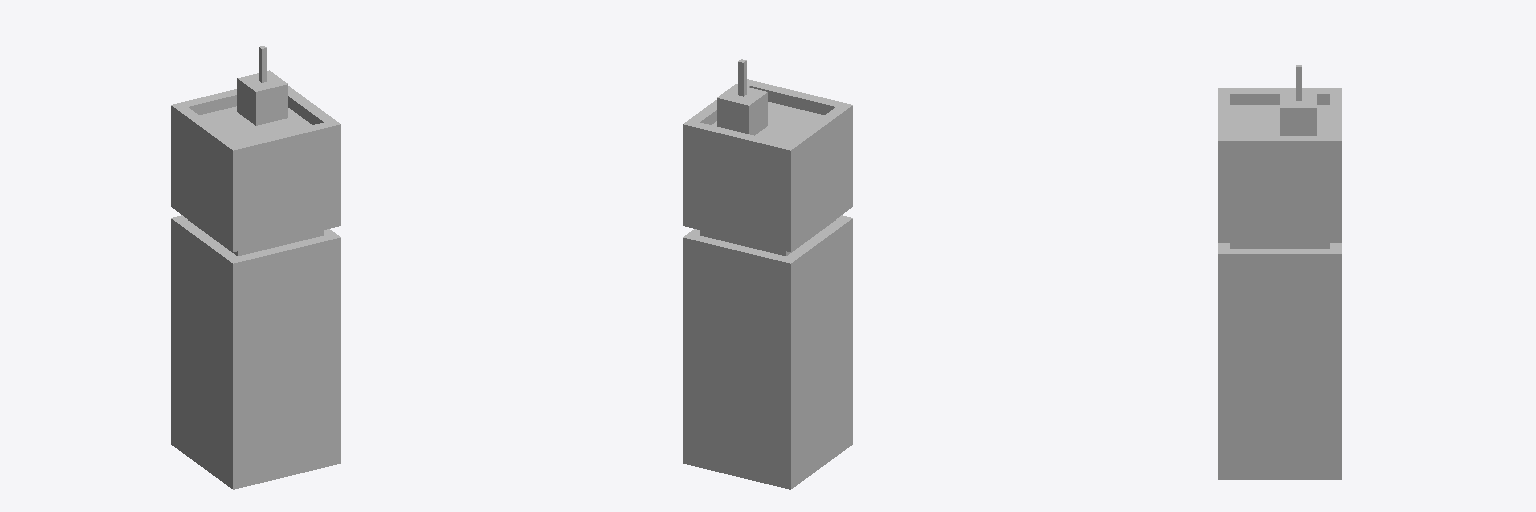
The model's file is low_buildingI.obj.
3 renders of one model, left to right at view 1: azimuth 30°, elevation 25°; view 2: azimuth 150°, elevation 25°; view 3: azimuth 270°, elevation 25°, orthographic.
Visible parts, largest first — view 1: low_buildingI; view 2: low_buildingI; view 3: low_buildingI.
Part boxes in pixels (x1,y1,x2,y2): low_buildingI: (171, 46, 340, 489); low_buildingI: (683, 59, 852, 489); low_buildingI: (1218, 65, 1341, 479).
Bounding box in the file's own units: 0.5 × 1.75 × 0.5.